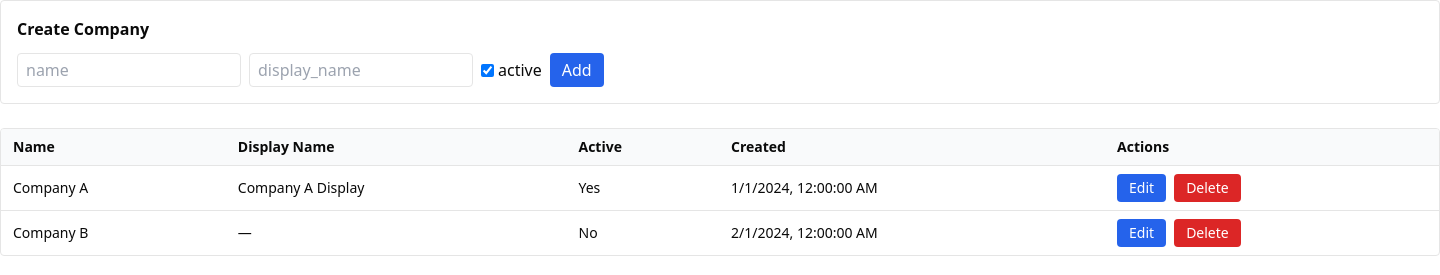
Test case: CompaniesCrud › enters edit mode when Edit is clicked
Expected: the text "Company A" is shown, 1,166 -> 226,210
Click the button "Edit" in the row of "Company A Display": (1142, 188) 1117,174 -> 1166,202
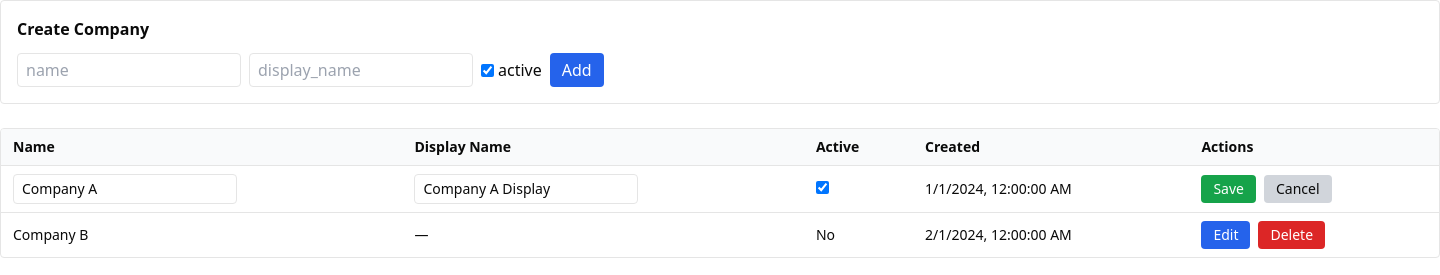
Now the button "Save" is shown, box 1201,175 -> 1256,203
Now the button "Cancel" is shown, box 1264,175 -> 1332,203
